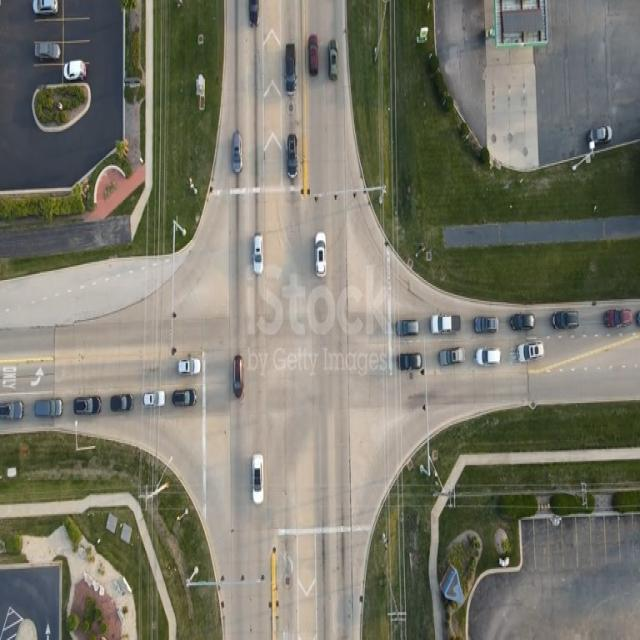car: (284, 45, 296, 97), (34, 400, 63, 420), (432, 314, 461, 334), (252, 454, 263, 505), (604, 308, 632, 328), (588, 126, 612, 148), (552, 311, 578, 331), (237, 361, 249, 404), (75, 396, 102, 415), (0, 403, 24, 424), (519, 344, 544, 364), (315, 234, 326, 278), (398, 353, 422, 373), (511, 313, 536, 332), (234, 356, 245, 399), (112, 396, 136, 415), (287, 136, 297, 180), (65, 61, 87, 81), (477, 348, 501, 366), (475, 317, 499, 335), (308, 36, 318, 78), (441, 349, 464, 367), (177, 358, 200, 376), (233, 133, 243, 174), (172, 389, 194, 407), (396, 320, 419, 337), (33, 0, 58, 15), (327, 45, 337, 82), (143, 391, 165, 407), (253, 237, 262, 276), (249, 0, 259, 27)
pickup-truck: (34, 40, 61, 60)
